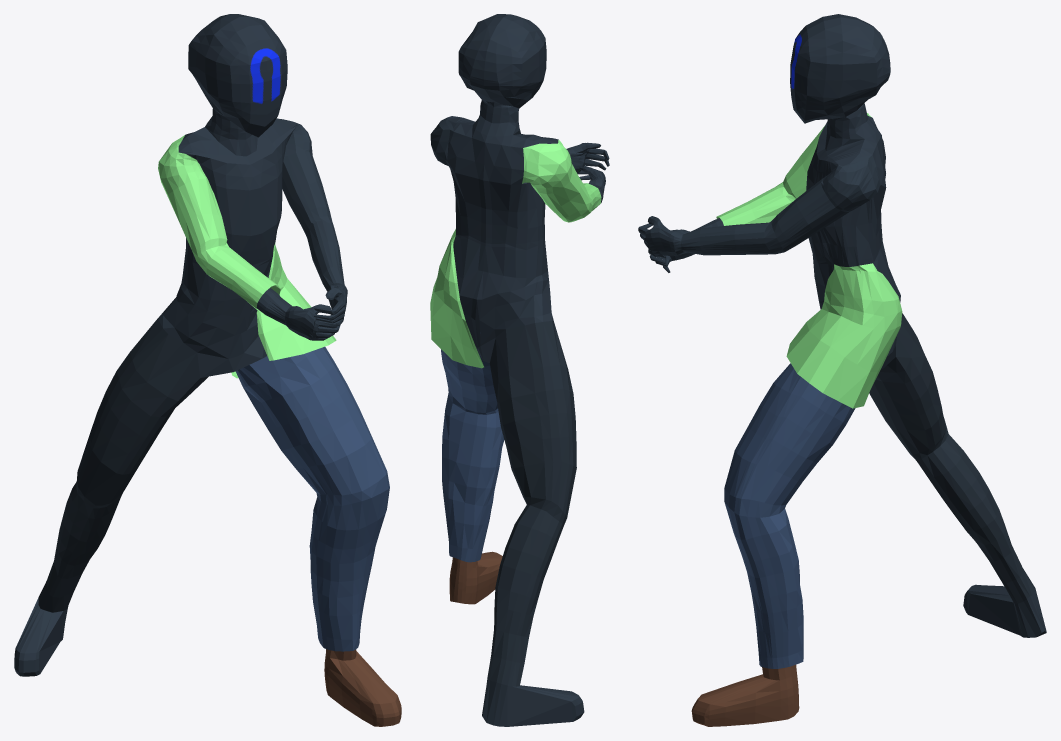
File: Mar_WR_000015.obj
3 renders of one model, left to right at view 1: azimuth 30°, elevation 25°; view 2: azimuth 150°, elevation 25°; view 3: azimuth 270°, elevation 25°, orthographic. The views are drawn at different scales.
Parts seen in each view (by area): view 1: Cube.000_Cube.001; view 2: Cube.000_Cube.001; view 3: Cube.000_Cube.001.
Part boxes in pixels (<box>): Cube.000_Cube.001: <box>14,14,401,726</box>; Cube.000_Cube.001: <box>430,14,609,726</box>; Cube.000_Cube.001: <box>638,14,1046,726</box>.
Size of the model in its own units: 1.47 by 3.72 by 2.07.
